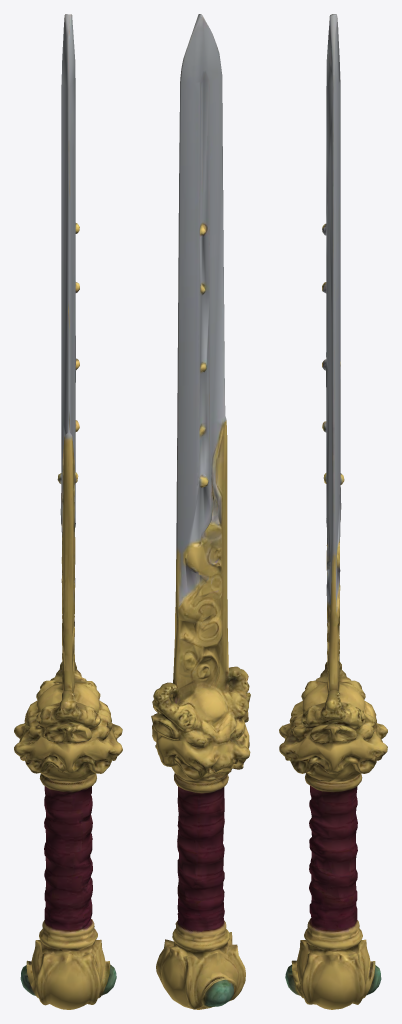
Rendered from kiem.glb.
3 views of the same model, side by side, from view 1: azimuth 90°, elevation 25°; view 2: azimuth 210°, elevation 25°; view 3: azimuth 270°, elevation 25° (orthographic).
Visible parts, largest first — view 1: node_0; view 2: node_0; view 3: node_0.
Boxes of the visible parts, x1=… form: node_0: x1=14, y1=14, x2=122, y2=1009; node_0: x1=151, y1=14, x2=250, y2=1009; node_0: x1=279, y1=14, x2=387, y2=1009.
Size of the model in its own units: 0.0494 by 0.4764 by 0.0474.
Materials: 1 (1 with a texture image).
